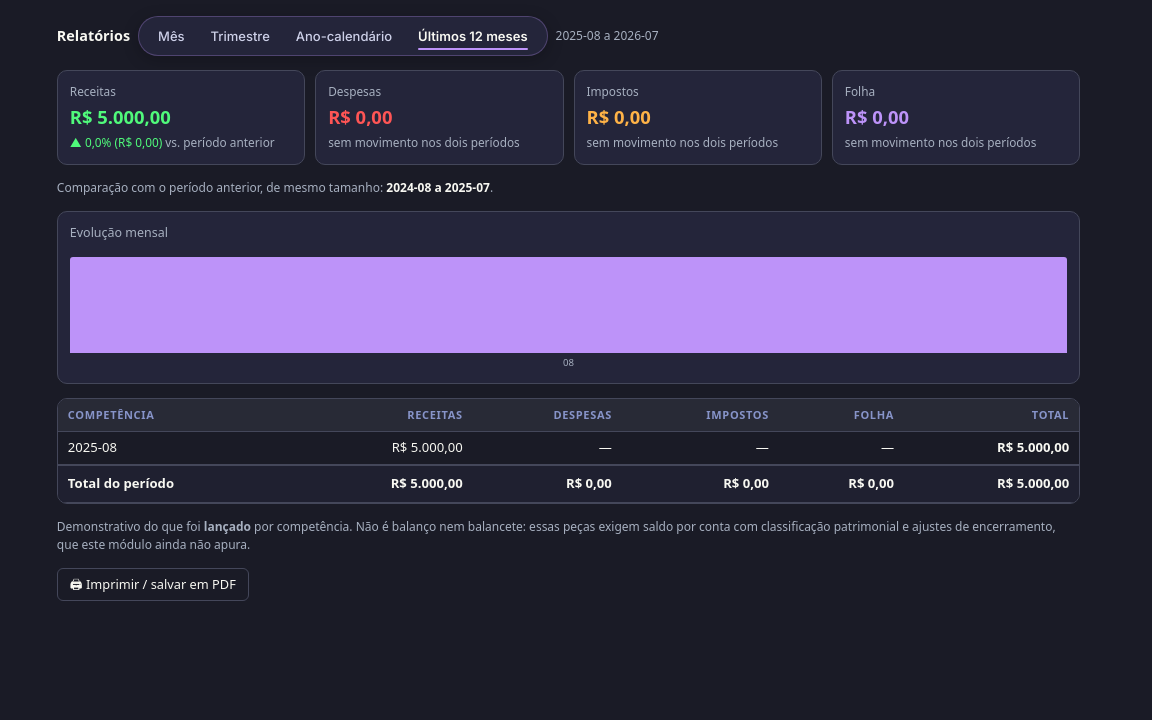
RelatoriosTab — o que o PDF precisa dizer sozinho › o rótulo acompanha a troca de período — 2026-05 a 2026-07 compara com 2026-02 a 2026-04
The image size is (1152, 720).
Check: the button "🖨 Imprimir / salvar em PDF" is shown, box [57, 568, 249, 601]
Click the button "Trimestre" at (240, 36), box [200, 21, 281, 51]
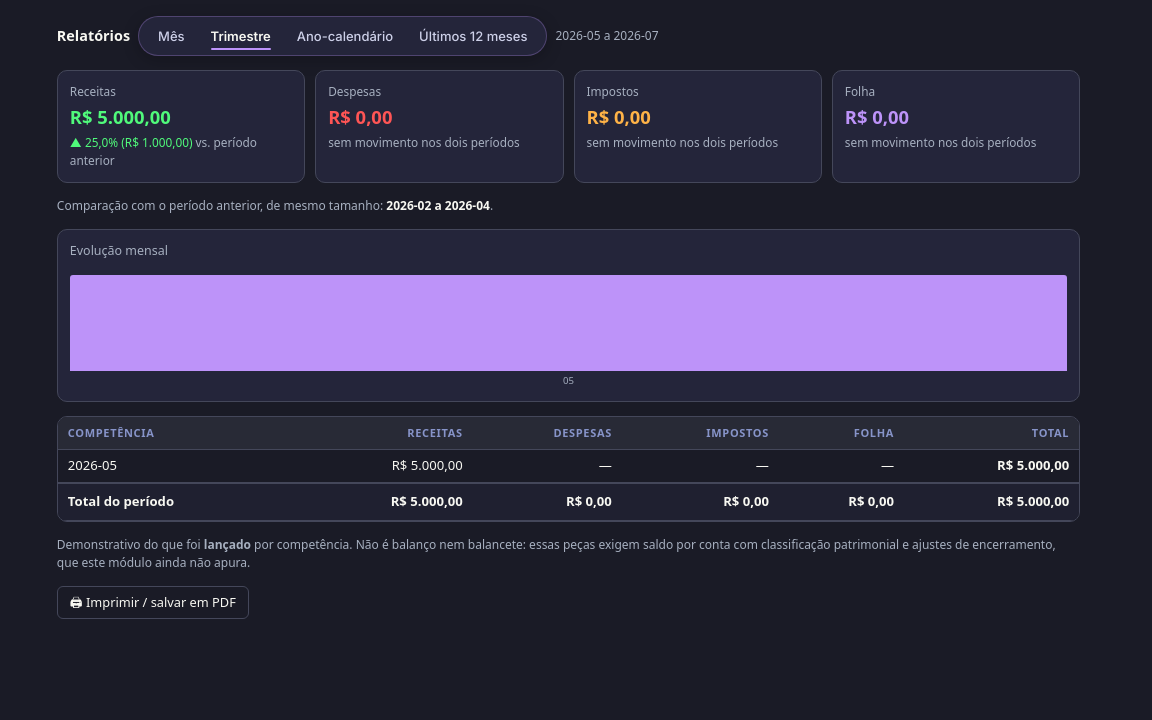
Check: the text "2026-02 a 2026-04" is shown, box [386, 197, 490, 214]
